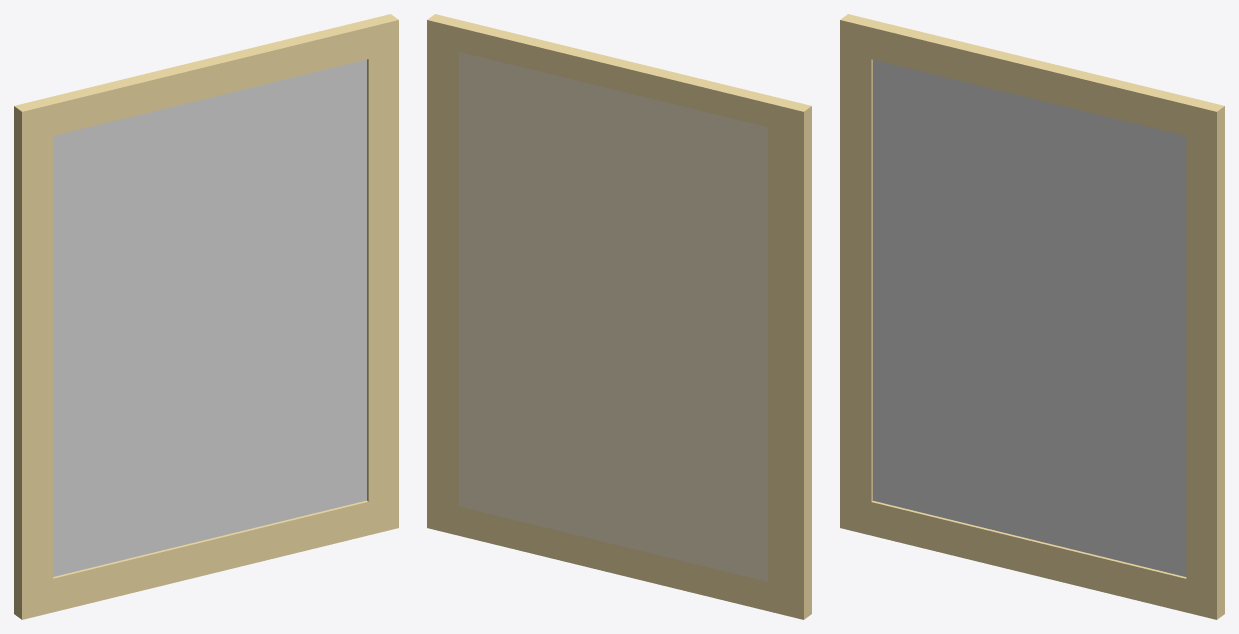
File: M_Cuadro Vertical.fbx
3 renders of one model, left to right at view 1: azimuth 30°, elevation 25°; view 2: azimuth 150°, elevation 25°; view 3: azimuth 330°, elevation 25°, orthographic.
Parts seen in each view (by area): view 1: pPlane1, cuadro; view 2: cuadro; view 3: pPlane1, cuadro.
Part boxes in pixels (x1=…): pPlane1: x1=53, y1=59, x2=366, y2=576; cuadro: x1=14, y1=14, x2=398, y2=619; cuadro: x1=427, y1=14, x2=811, y2=619; pPlane1: x1=873, y1=59, x2=1186, y2=576; cuadro: x1=840, y1=14, x2=1224, y2=619.
Size of the model in its own units: 13.9 by 17.91 by 0.5189.
